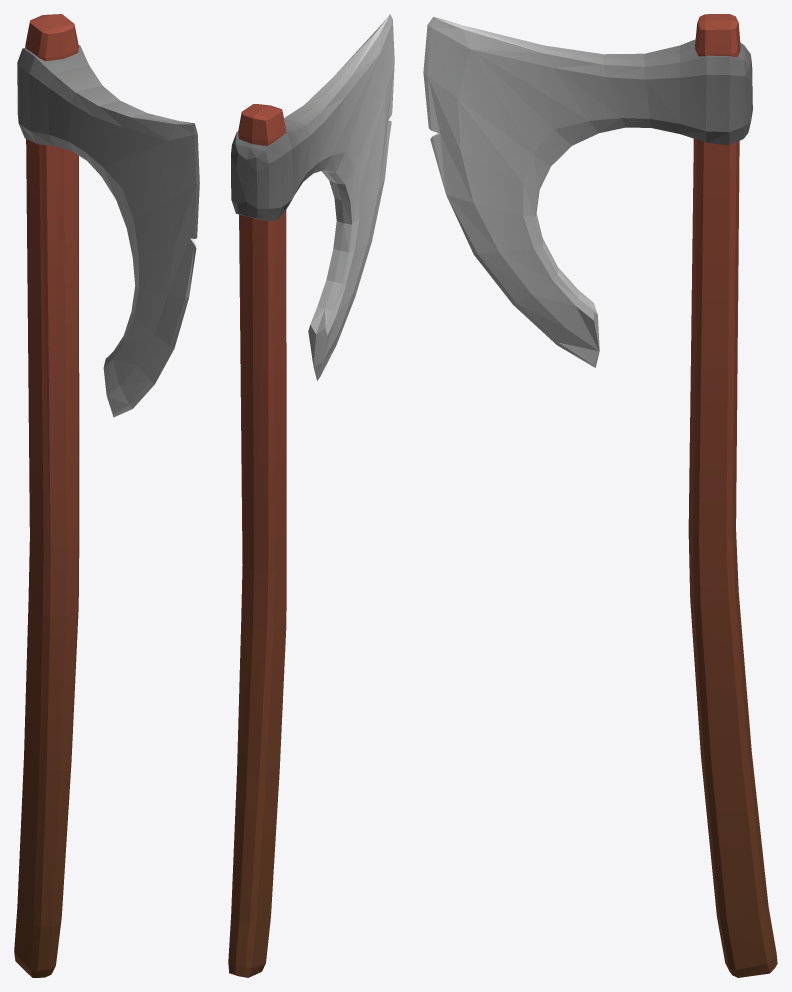
File: twohandaxe.glb
The picture shows the model from 3 angles, left to right: view 1: azimuth 30°, elevation 25°; view 2: azimuth 150°, elevation 25°; view 3: azimuth 270°, elevation 25°; orthographic projection. The views are drawn at different scales.
Parts seen in each view (by area): view 1: TwohandAxe_mesh1; view 2: TwohandAxe_mesh1; view 3: TwohandAxe_mesh1.
Boxes of the visible parts, <box> form: TwohandAxe_mesh1: <box>14,14,199,977</box>; TwohandAxe_mesh1: <box>228,14,394,977</box>; TwohandAxe_mesh1: <box>423,14,777,977</box>.
Bounding box in the file's own units: 0.0584 × 0.9488 × 0.318.
1 material, 1 textured.
